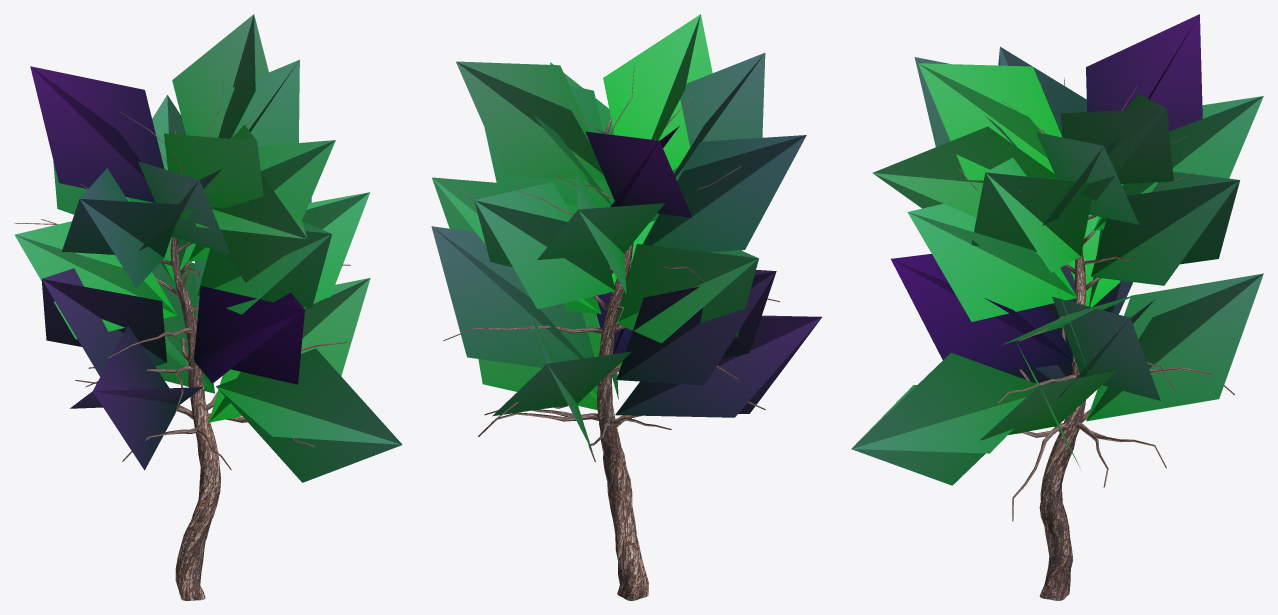
Rendered from Willow_2merge.FBX.
3 renders of one model, left to right at view 1: azimuth 30°, elevation 25°; view 2: azimuth 150°, elevation 25°; view 3: azimuth 270°, elevation 25°, orthographic. The views are drawn at different scales.
Parts seen in each view (by area): view 1: Tree_0; view 2: Tree_0; view 3: Tree_0.
Part boxes in pixels (x1,y1,x2,y2): Tree_0: (14,14,402,600); Tree_0: (431,14,821,600); Tree_0: (851,14,1263,600).
Size of the model in its own units: 23.71 by 24.03 by 35.04.
